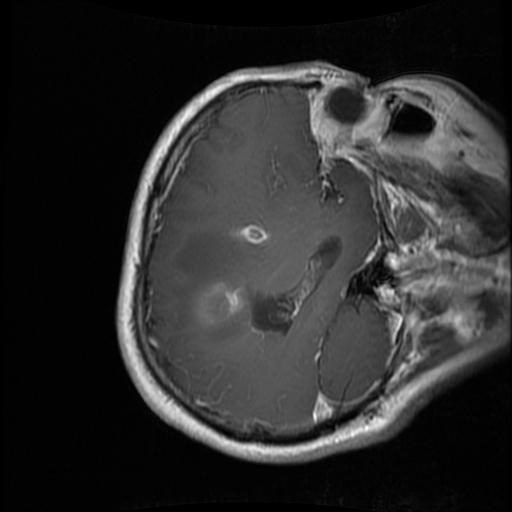glioma: (191, 235, 340, 336)
